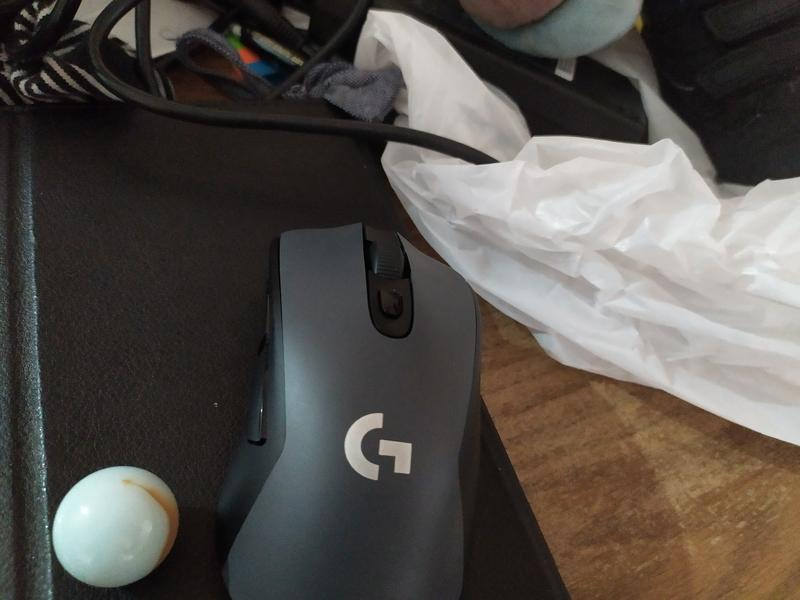Warning: (47, 461, 185, 590)
